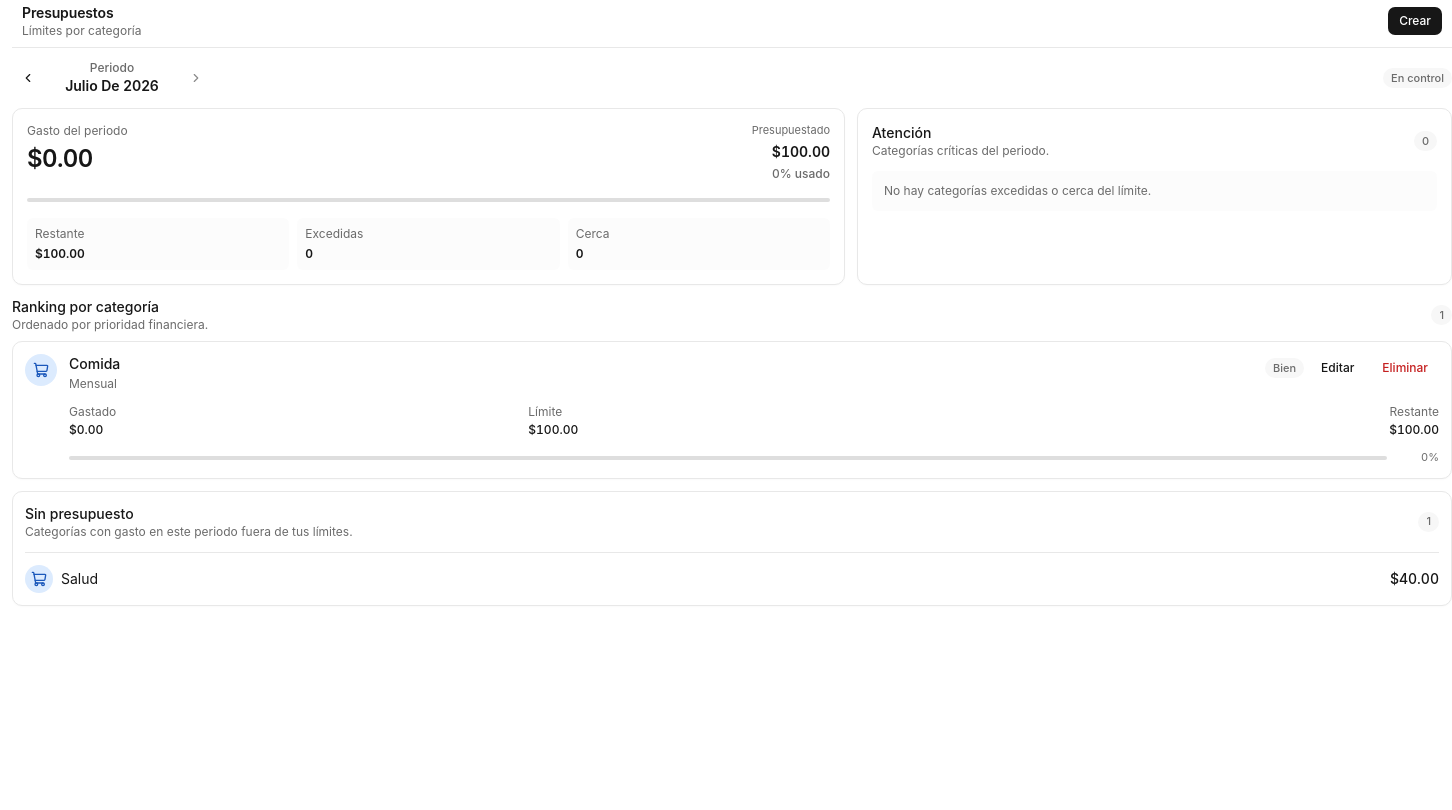
BudgetsPage › scopes unbudgeted spending and active definitions to the selected month
Check: the text "$40.00" is shown, box [1390,569,1439,589]
Step 1. Click the button named "Mes anterior" → click(28, 78), box [12,62,44,94]
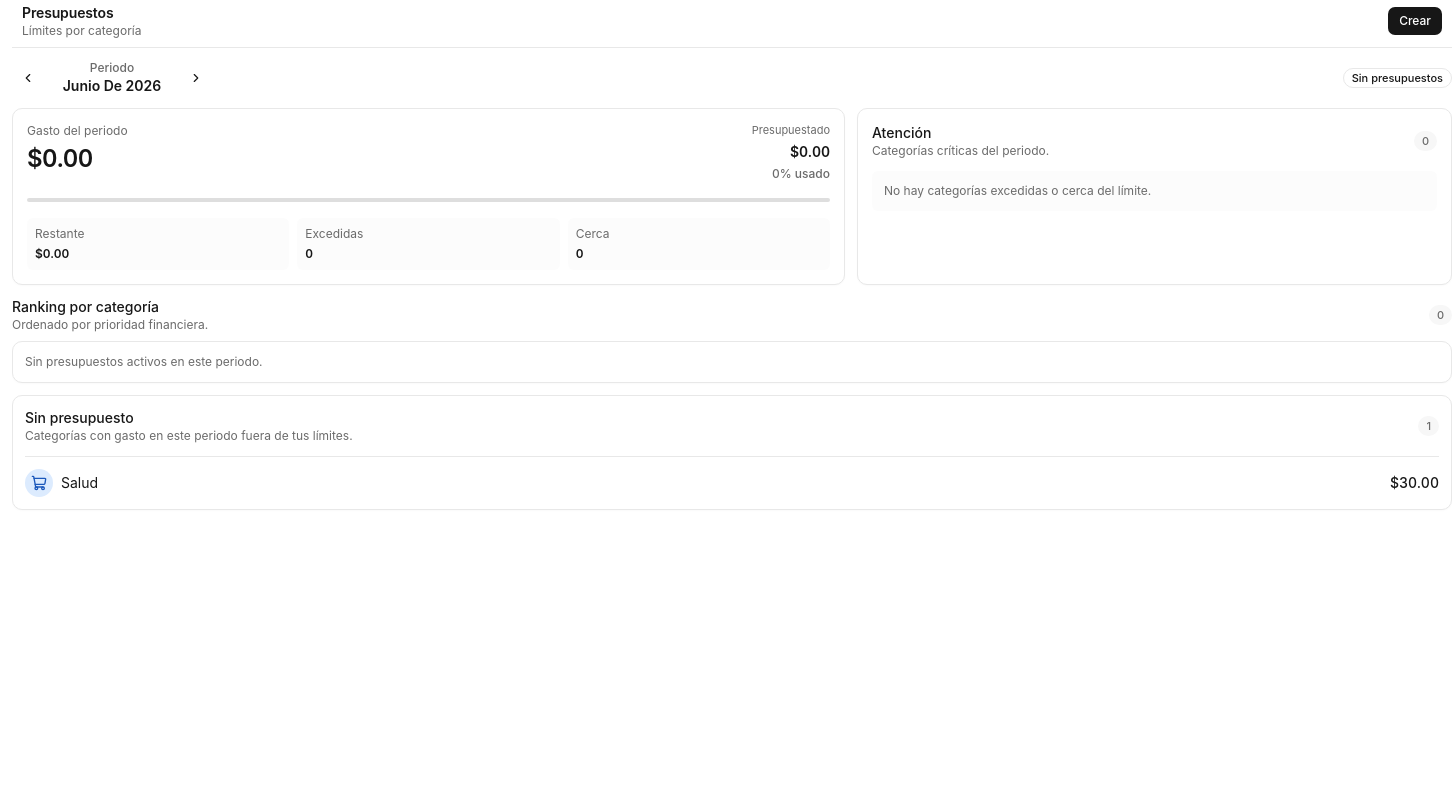
Check: the text "Sin presupuestos activos en este periodo." is shown, box [12,341,1451,383]
Check: the text "$30.00" is shown, box [1390,473,1439,493]
Check: the text "$40.00" is gone
